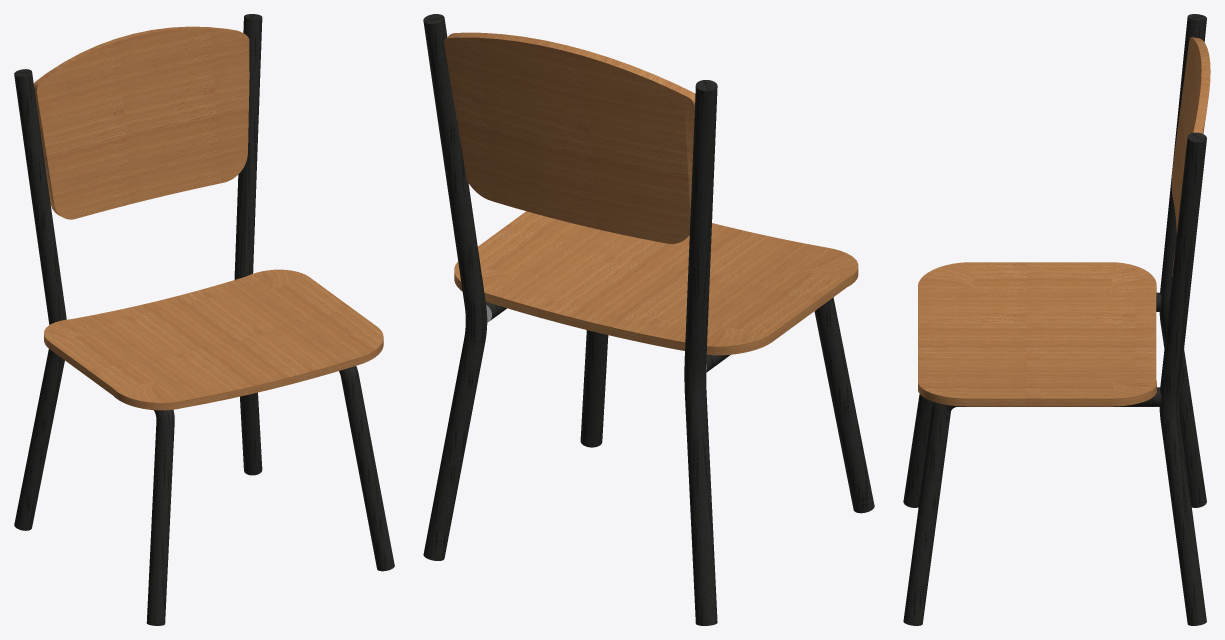
3 views of the same model, side by side, from view 1: azimuth 30°, elevation 25°; view 2: azimuth 150°, elevation 25°; view 3: azimuth 270°, elevation 25° (orthographic). The views are drawn at different scales.
Visible parts, largest first — view 1: group_3, group_2, group_1 (×4); view 2: group_3, group_2, group_1 (×4); view 3: group_2, group_1 (×4), group_3.
Part boxes in pixels (left/top/right/bottom): group_3: left=34, top=26, right=249, bottom=219; group_2: left=44, top=269, right=383, bottom=410; group_1 (×4): left=14, top=14, right=394, bottom=625; group_3: left=443, top=32, right=695, bottom=243; group_2: left=454, top=211, right=858, bottom=355; group_1 (×4): left=423, top=14, right=874, bottom=625; group_2: left=918, top=262, right=1156, bottom=406; group_1 (×4): left=903, top=14, right=1206, bottom=625; group_3: left=1171, top=37, right=1210, bottom=276.
Size of the model in its own units: 351 by 333 by 592.
4 materials, 2 textured.
